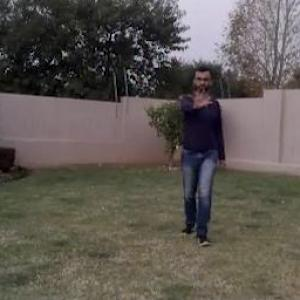follow_hand: (188, 84, 215, 109)
